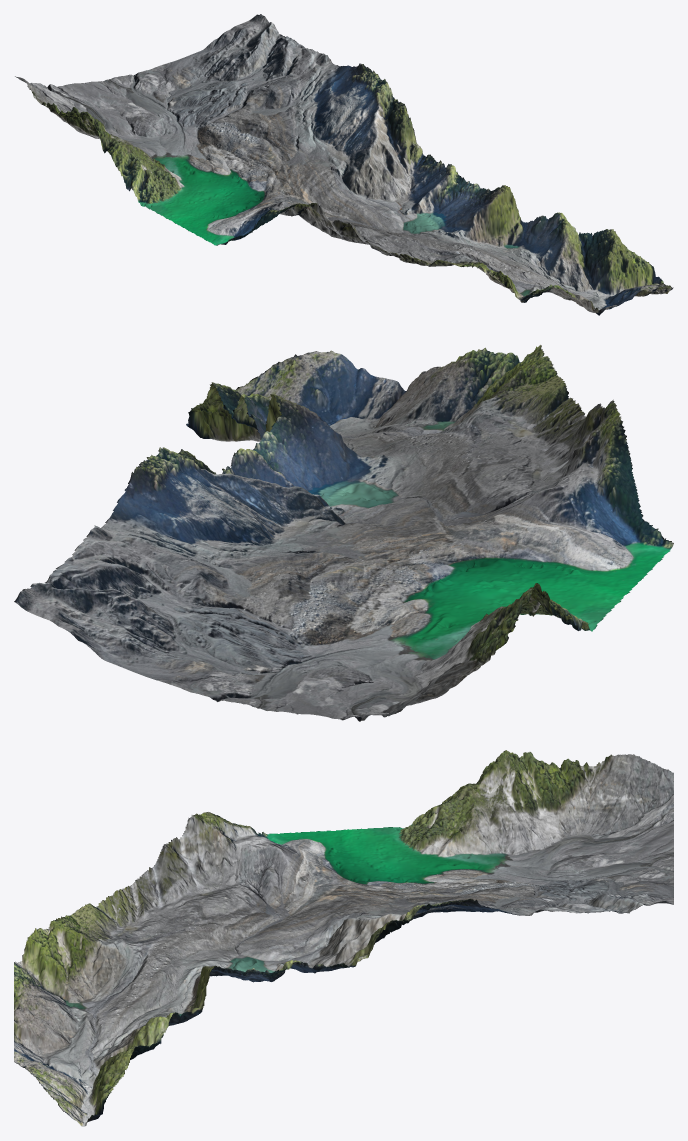
Rendered from matayan_20250920.glb.
3 renders of one model, top to bottom at view 1: azimuth 30°, elevation 25°; view 2: azimuth 150°, elevation 25°; view 3: azimuth 270°, elevation 25°, orthographic. The views are drawn at different scales.
Visible parts, largest first — view 1: 馬太鞍溪 UAV DSM・2025-09-20; view 2: 馬太鞍溪 UAV DSM・2025-09-20; view 3: 馬太鞍溪 UAV DSM・2025-09-20.
Boxes of the visible parts, <box> form: 馬太鞍溪 UAV DSM・2025-09-20: <box>15,14,673,315</box>; 馬太鞍溪 UAV DSM・2025-09-20: <box>14,345,673,721</box>; 馬太鞍溪 UAV DSM・2025-09-20: <box>14,750,673,1126</box>.
Bounding box in the file's own units: 2520 × 842 × 3155.
Materials: 1 (1 with a texture image).
